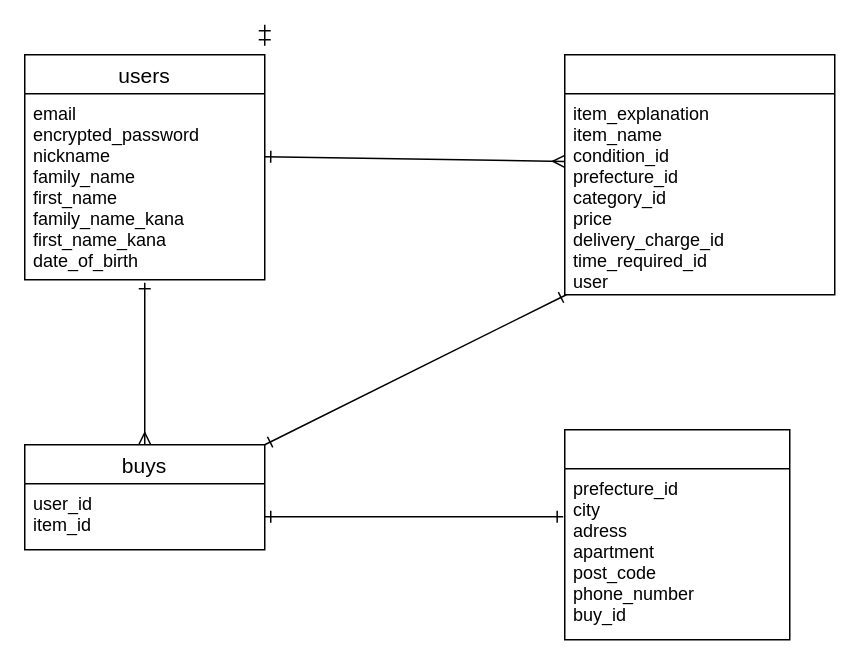
Some shapes in this 860 by 665 pixel diagram are drawn without their labels. Each missing label, with the box of its shape:
addresses: (563, 428, 790, 640)
items: (563, 53, 835, 295)
